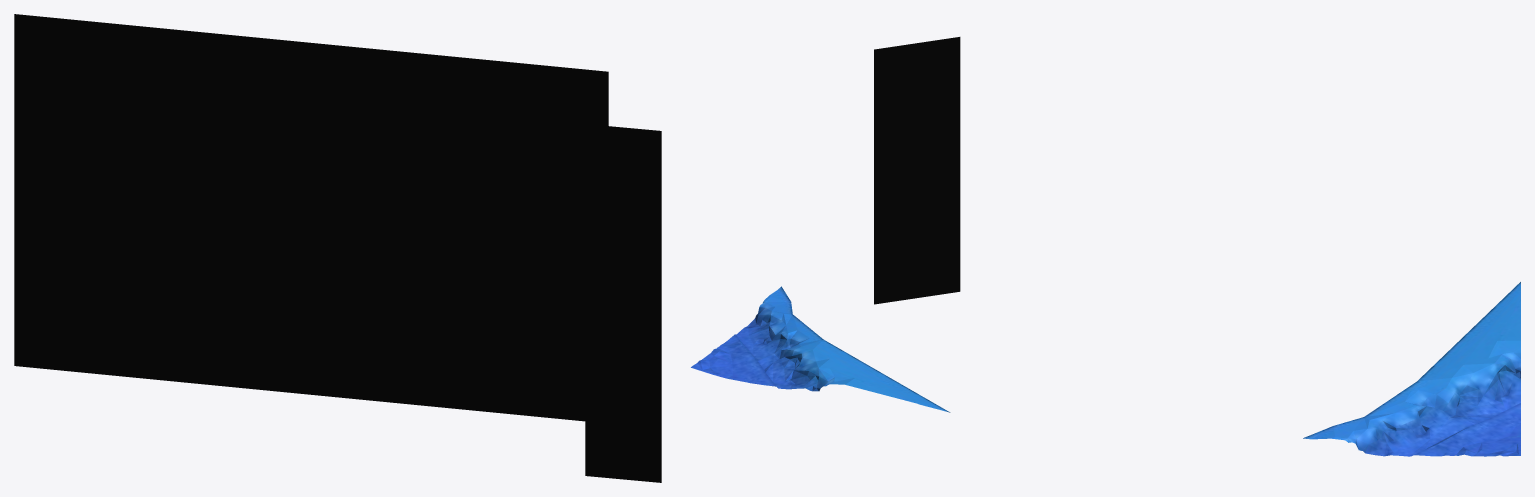
3 views of the same model, side by side, from view 1: azimuth 30°, elevation 25°; view 2: azimuth 150°, elevation 25°; view 3: azimuth 270°, elevation 25° (orthographic). The views are drawn at different scales.
Bounding box in the file's own units: 11.58 × 9 × 13.06.
2 materials, 2 textured.
